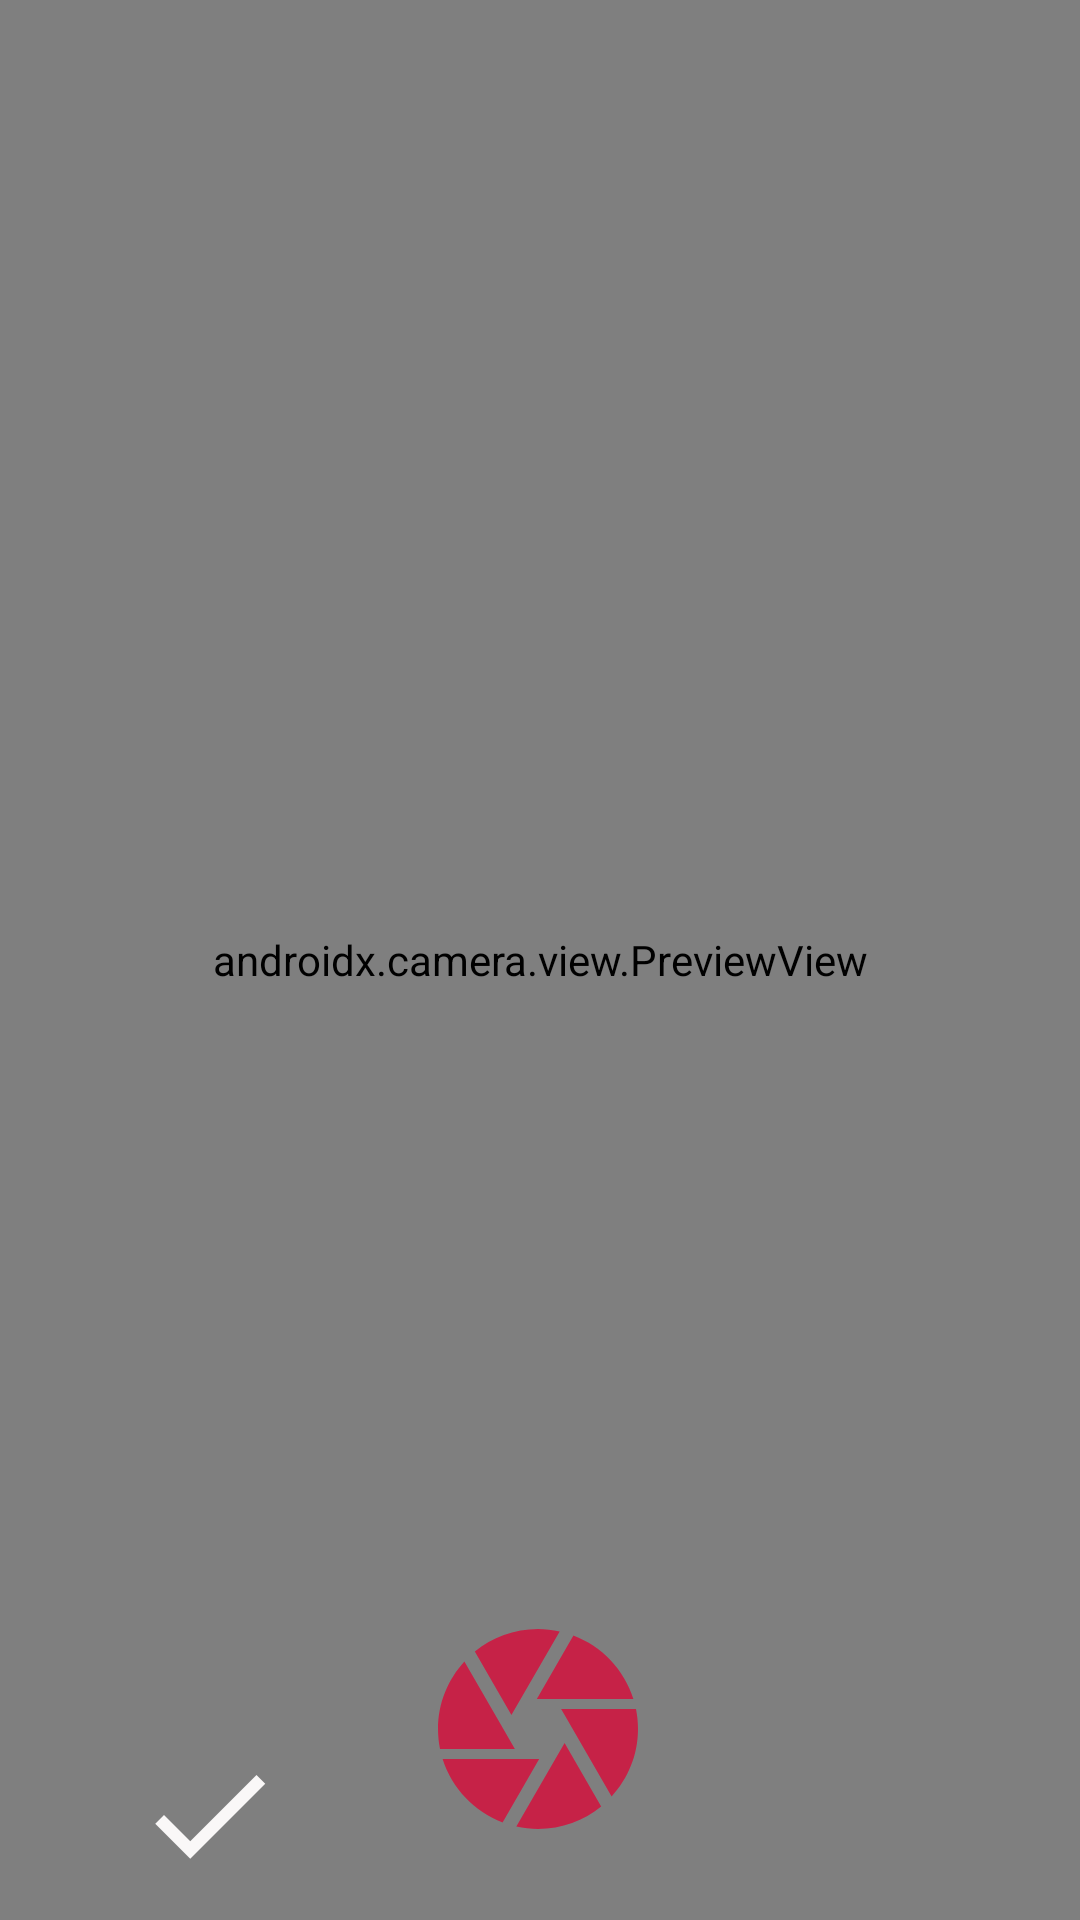

Locate icon controls on the screen. Image size 1080w x 1920h, boxes as (x1, y1, x2, y2).
done: (155, 1775, 265, 1859)
